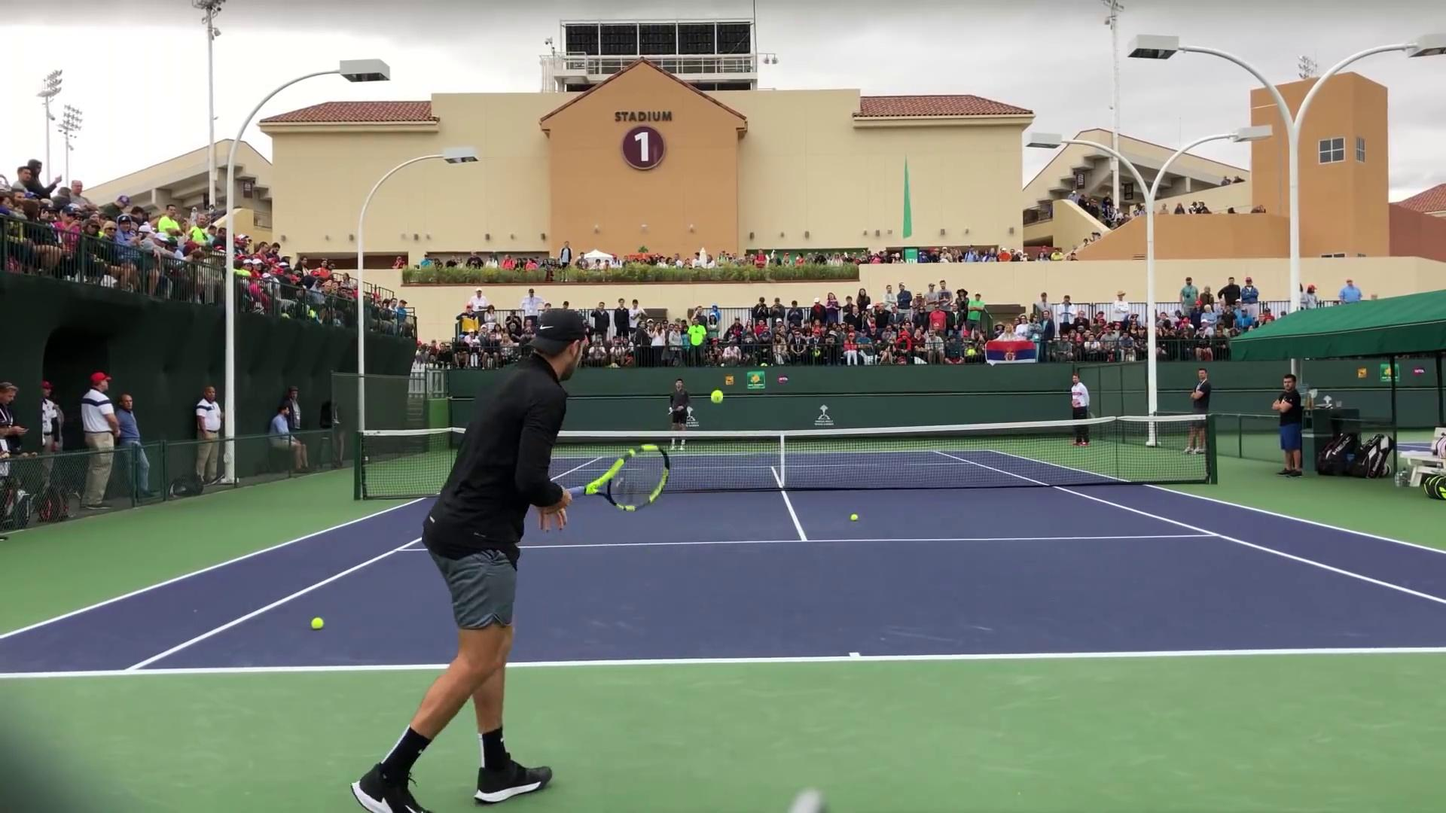ball: (710, 389, 725, 404), (310, 617, 325, 629), (849, 513, 857, 521), (721, 373, 723, 374)
